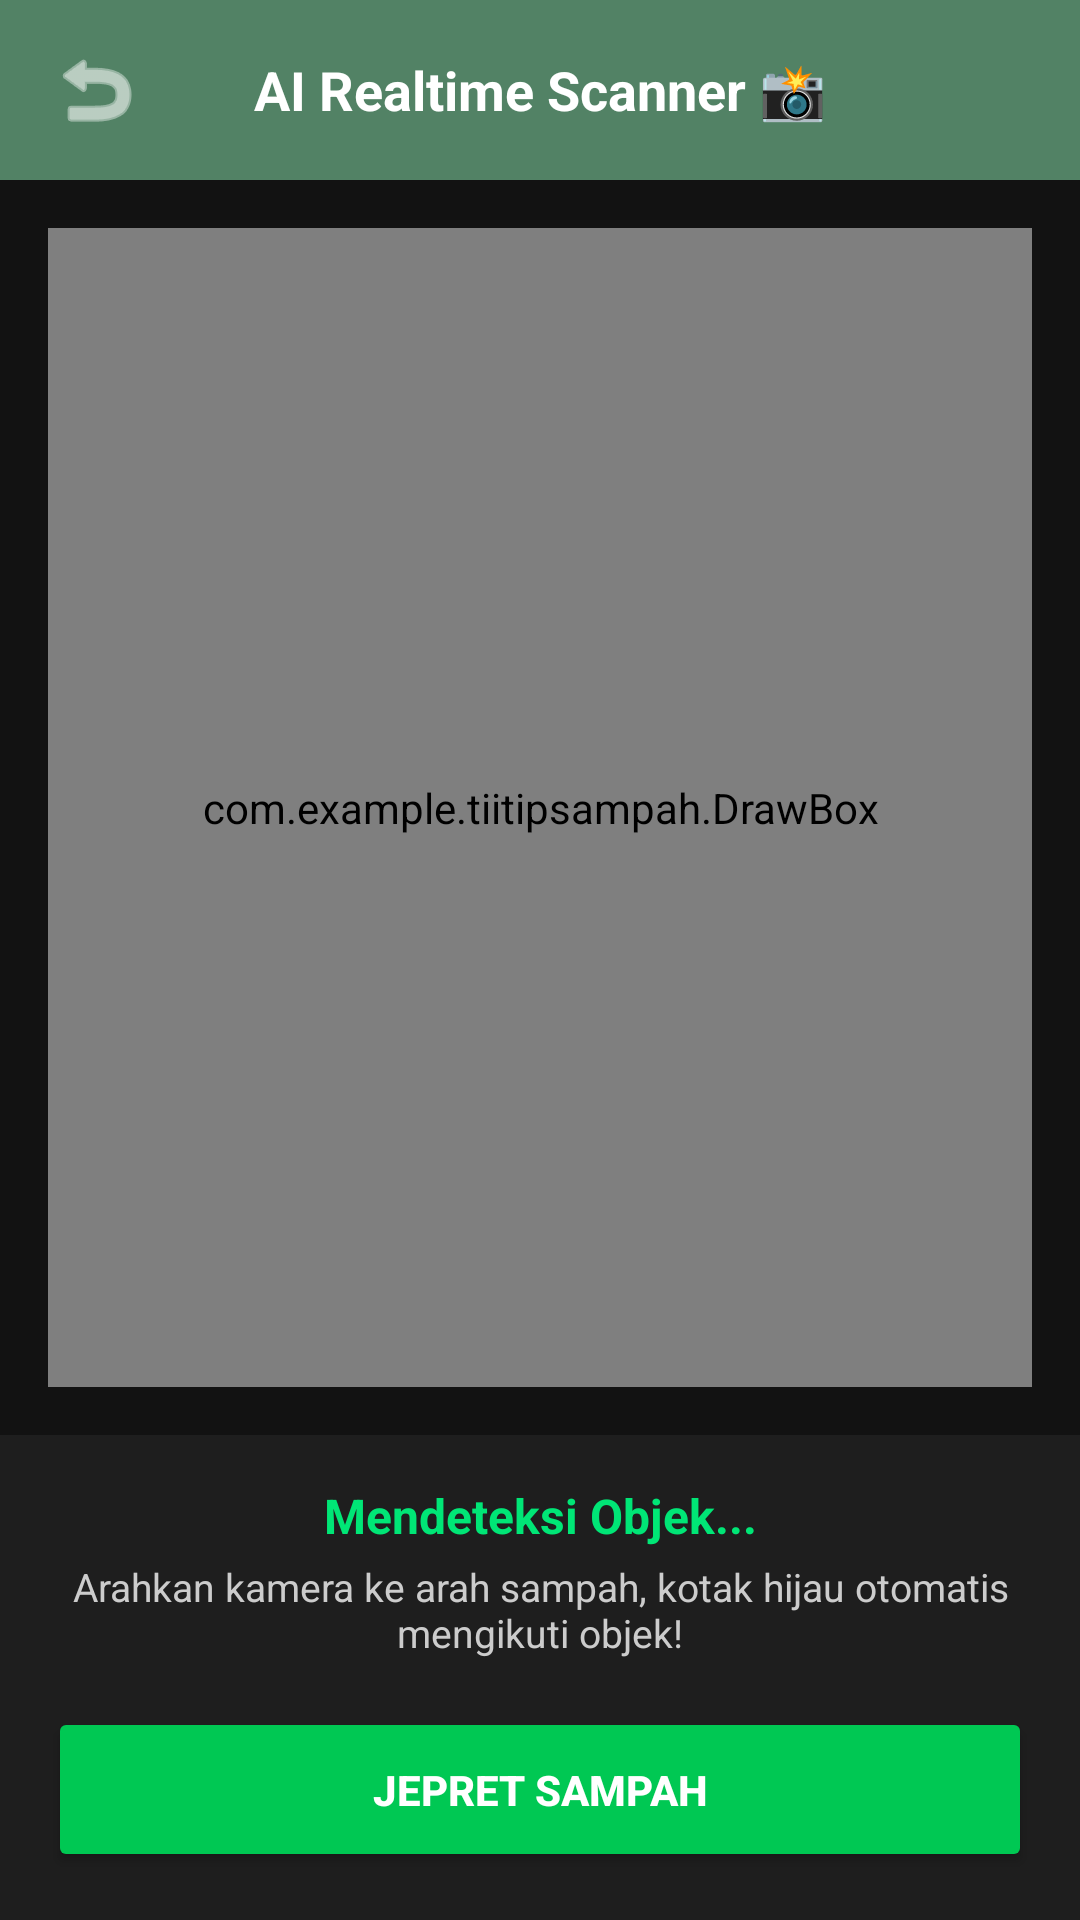

Icon bounding boxes for this 1080*1920 phone screenshot, format {"left": x1, "top": y1, "right": x2, "bottom": y2}:
revert: {"left": 63, "top": 59, "right": 132, "bottom": 122}
